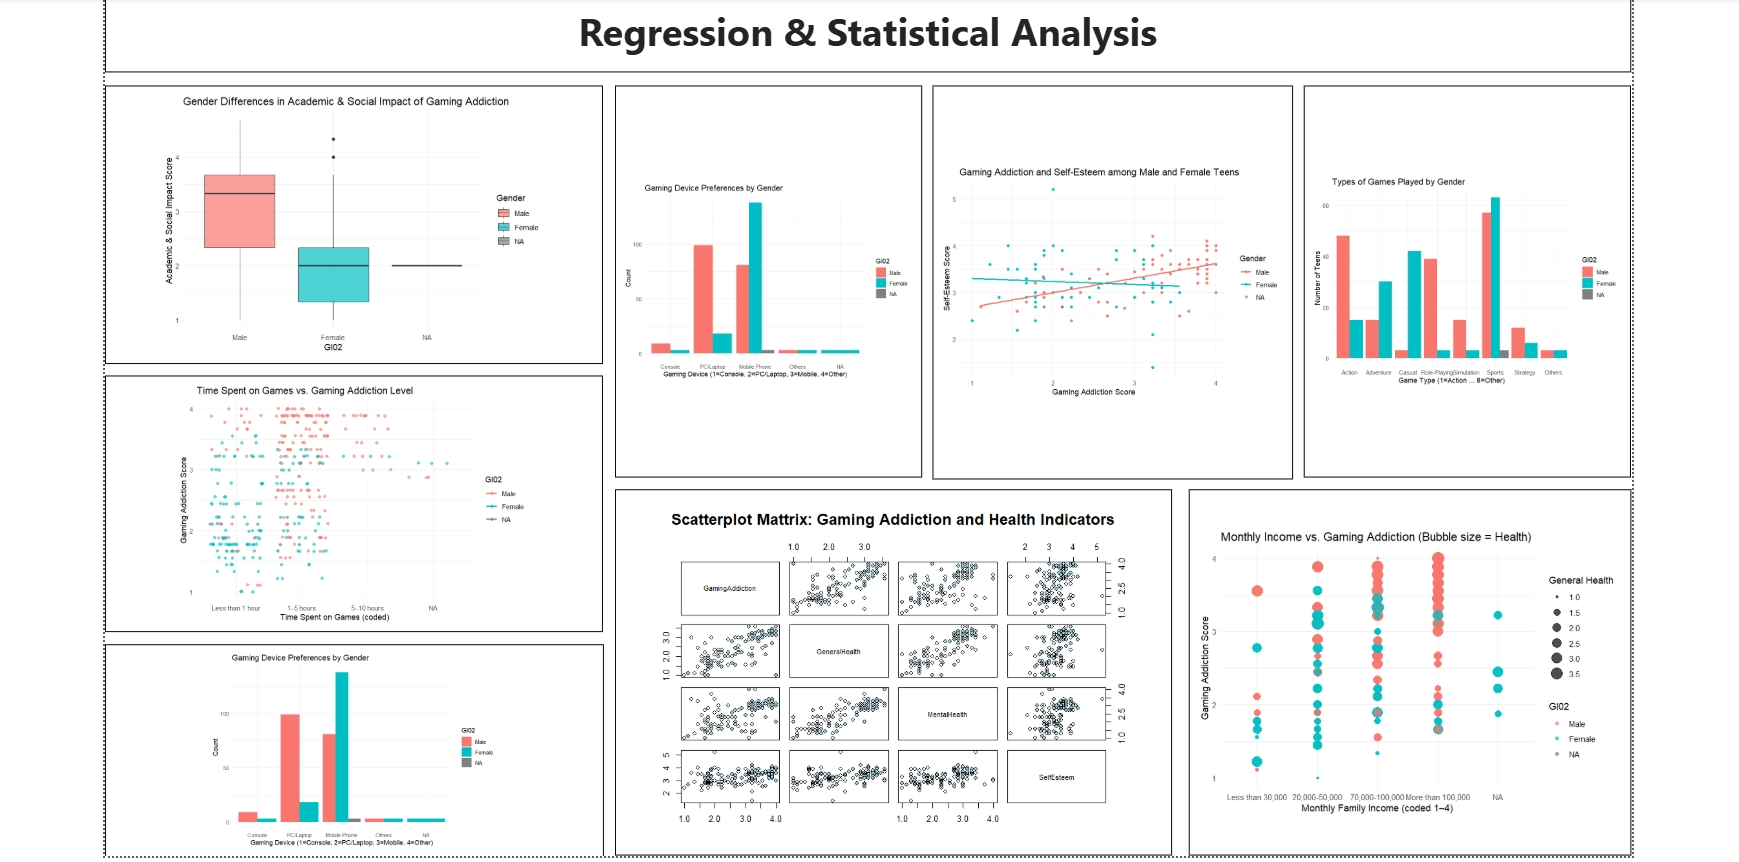

The page's visual inventory and layout, read from the dashboard file:
{"tool":"powerbi","page":{"name":"Page 2","canvas":[1280,720],"ordinal":1},"visuals":[{"type":"image","box":[694.4,73.3,302.2,330],"z":0},{"type":"image","box":[0,73.3,417.8,233.3],"z":1},{"type":"image","box":[0,316.7,417.8,215.6],"z":2},{"type":"image","box":[0,542,418,178],"z":3},{"type":"image","box":[427.5,412.5,467.5,307.5],"z":4},{"type":"image","box":[427.8,73.3,257.8,328.9],"z":5},{"type":"image","box":[1005.6,73.3,274.4,328.9],"z":6},{"type":"image","box":[908.8,412.5,371.2,307.5],"z":7},{"type":"textbox","box":[0,0,1280,62.2],"z":8}]}

Visuals, with their boxes on the page's 1280x720 design canvas (x1, y1, x2, y2). These are canvas units, not pixel positions in the 1739x862 screenshot, which may show the page scaled, cropped or inside an application window:
image: region(694, 73, 997, 403)
image: region(0, 73, 418, 307)
image: region(0, 317, 418, 532)
image: region(0, 542, 418, 720)
image: region(428, 412, 895, 720)
image: region(428, 73, 686, 402)
image: region(1006, 73, 1280, 402)
image: region(909, 412, 1280, 720)
textbox: region(0, 0, 1280, 62)
